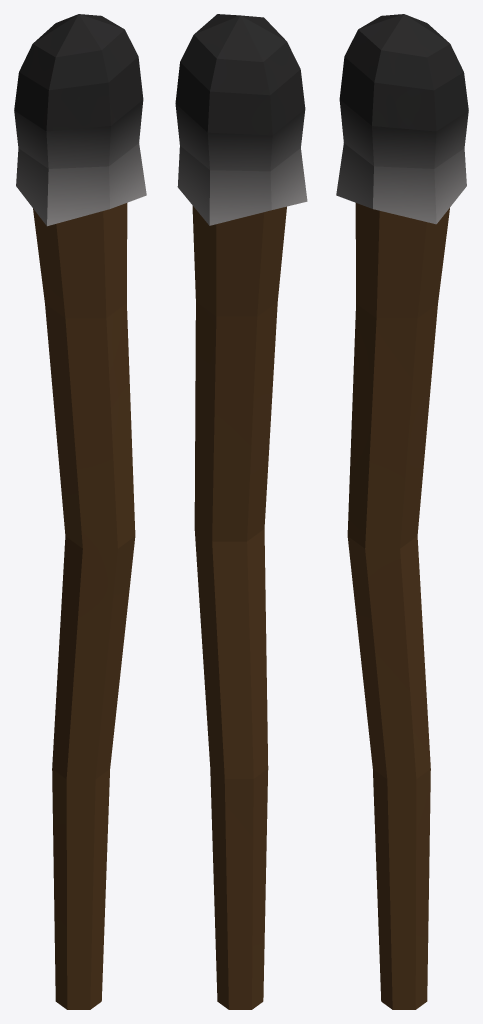
The model's file is torch.fbx.
The picture shows the model from 3 angles, left to right: view 1: azimuth 90°, elevation 25°; view 2: azimuth 210°, elevation 25°; view 3: azimuth 270°, elevation 25°; orthographic projection.
Visible parts, largest first — view 1: torch1; view 2: torch1; view 3: torch1.
Part boxes in pixels (box(x1,y1,x2,y2)): torch1: box(14, 14, 146, 1009); torch1: box(175, 14, 307, 1009); torch1: box(336, 14, 468, 1009).
Bounding box in the file's own units: 0.0401 × 0.3772 × 0.0459.
